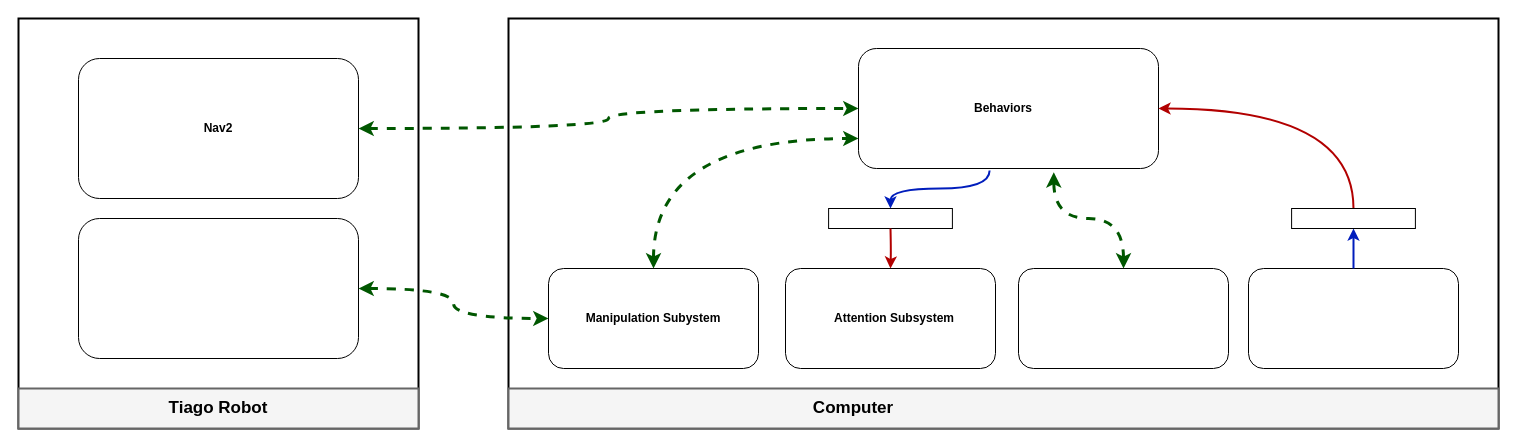
Image size: 1516x446. Some labels were removed from this diagram. The centre of each missing label's shape, as x and y in pixels:
"Dialog Subsystem" goes at point (1123, 318).
"MoveIt2" goes at point (218, 288).
"Perception Subsystem" goes at point (1353, 318).
